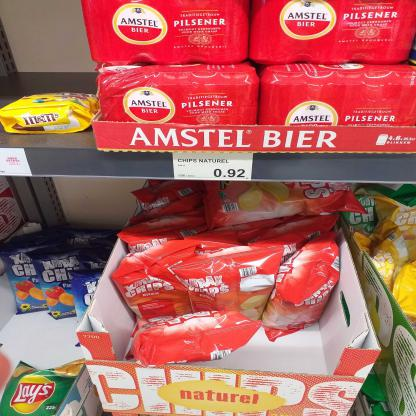prtg: (173, 154, 254, 182), (1, 148, 35, 177)
